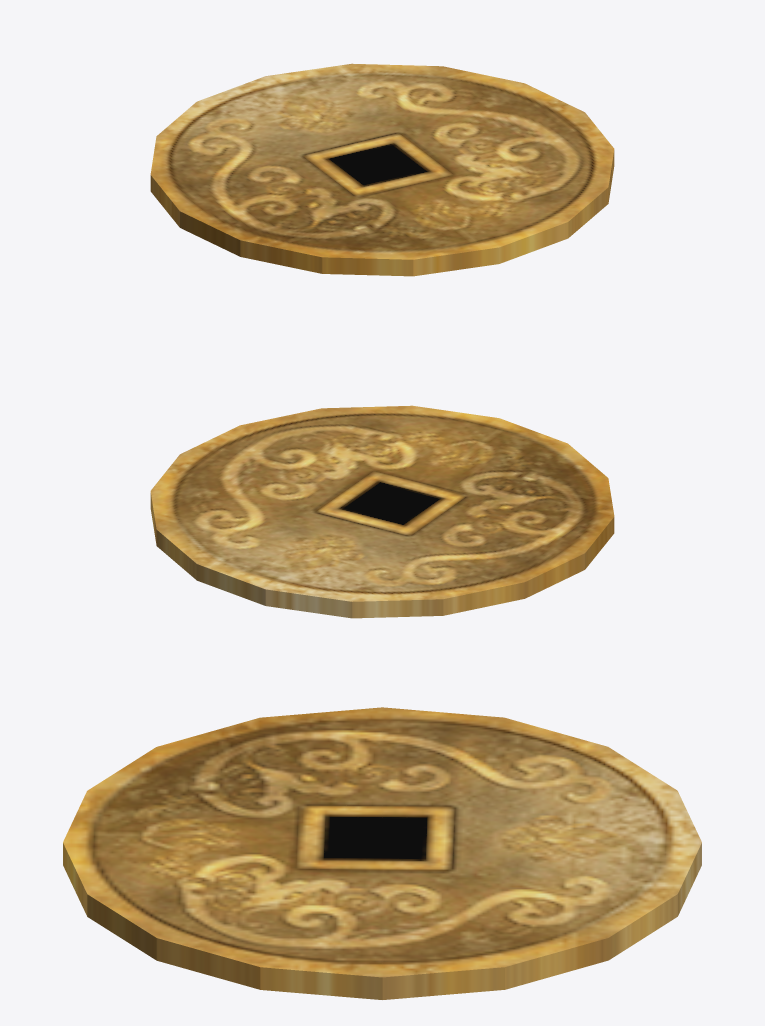
Rendered from coins.fbx.
3 views of the same model, one above another, from view 1: azimuth 30°, elevation 25°; view 2: azimuth 150°, elevation 25°; view 3: azimuth 270°, elevation 25° (orthographic). The views are drawn at different scales.
Parts seen in each view (by area): view 1: coins; view 2: coins; view 3: coins.
Boxes of the visible parts, x1,y1,x2,y2 form: coins: (150,63,614,276); coins: (150,405,614,618); coins: (63,707,701,999).
Bounding box in the file's own units: 5.49 × 0.1864 × 5.49.
